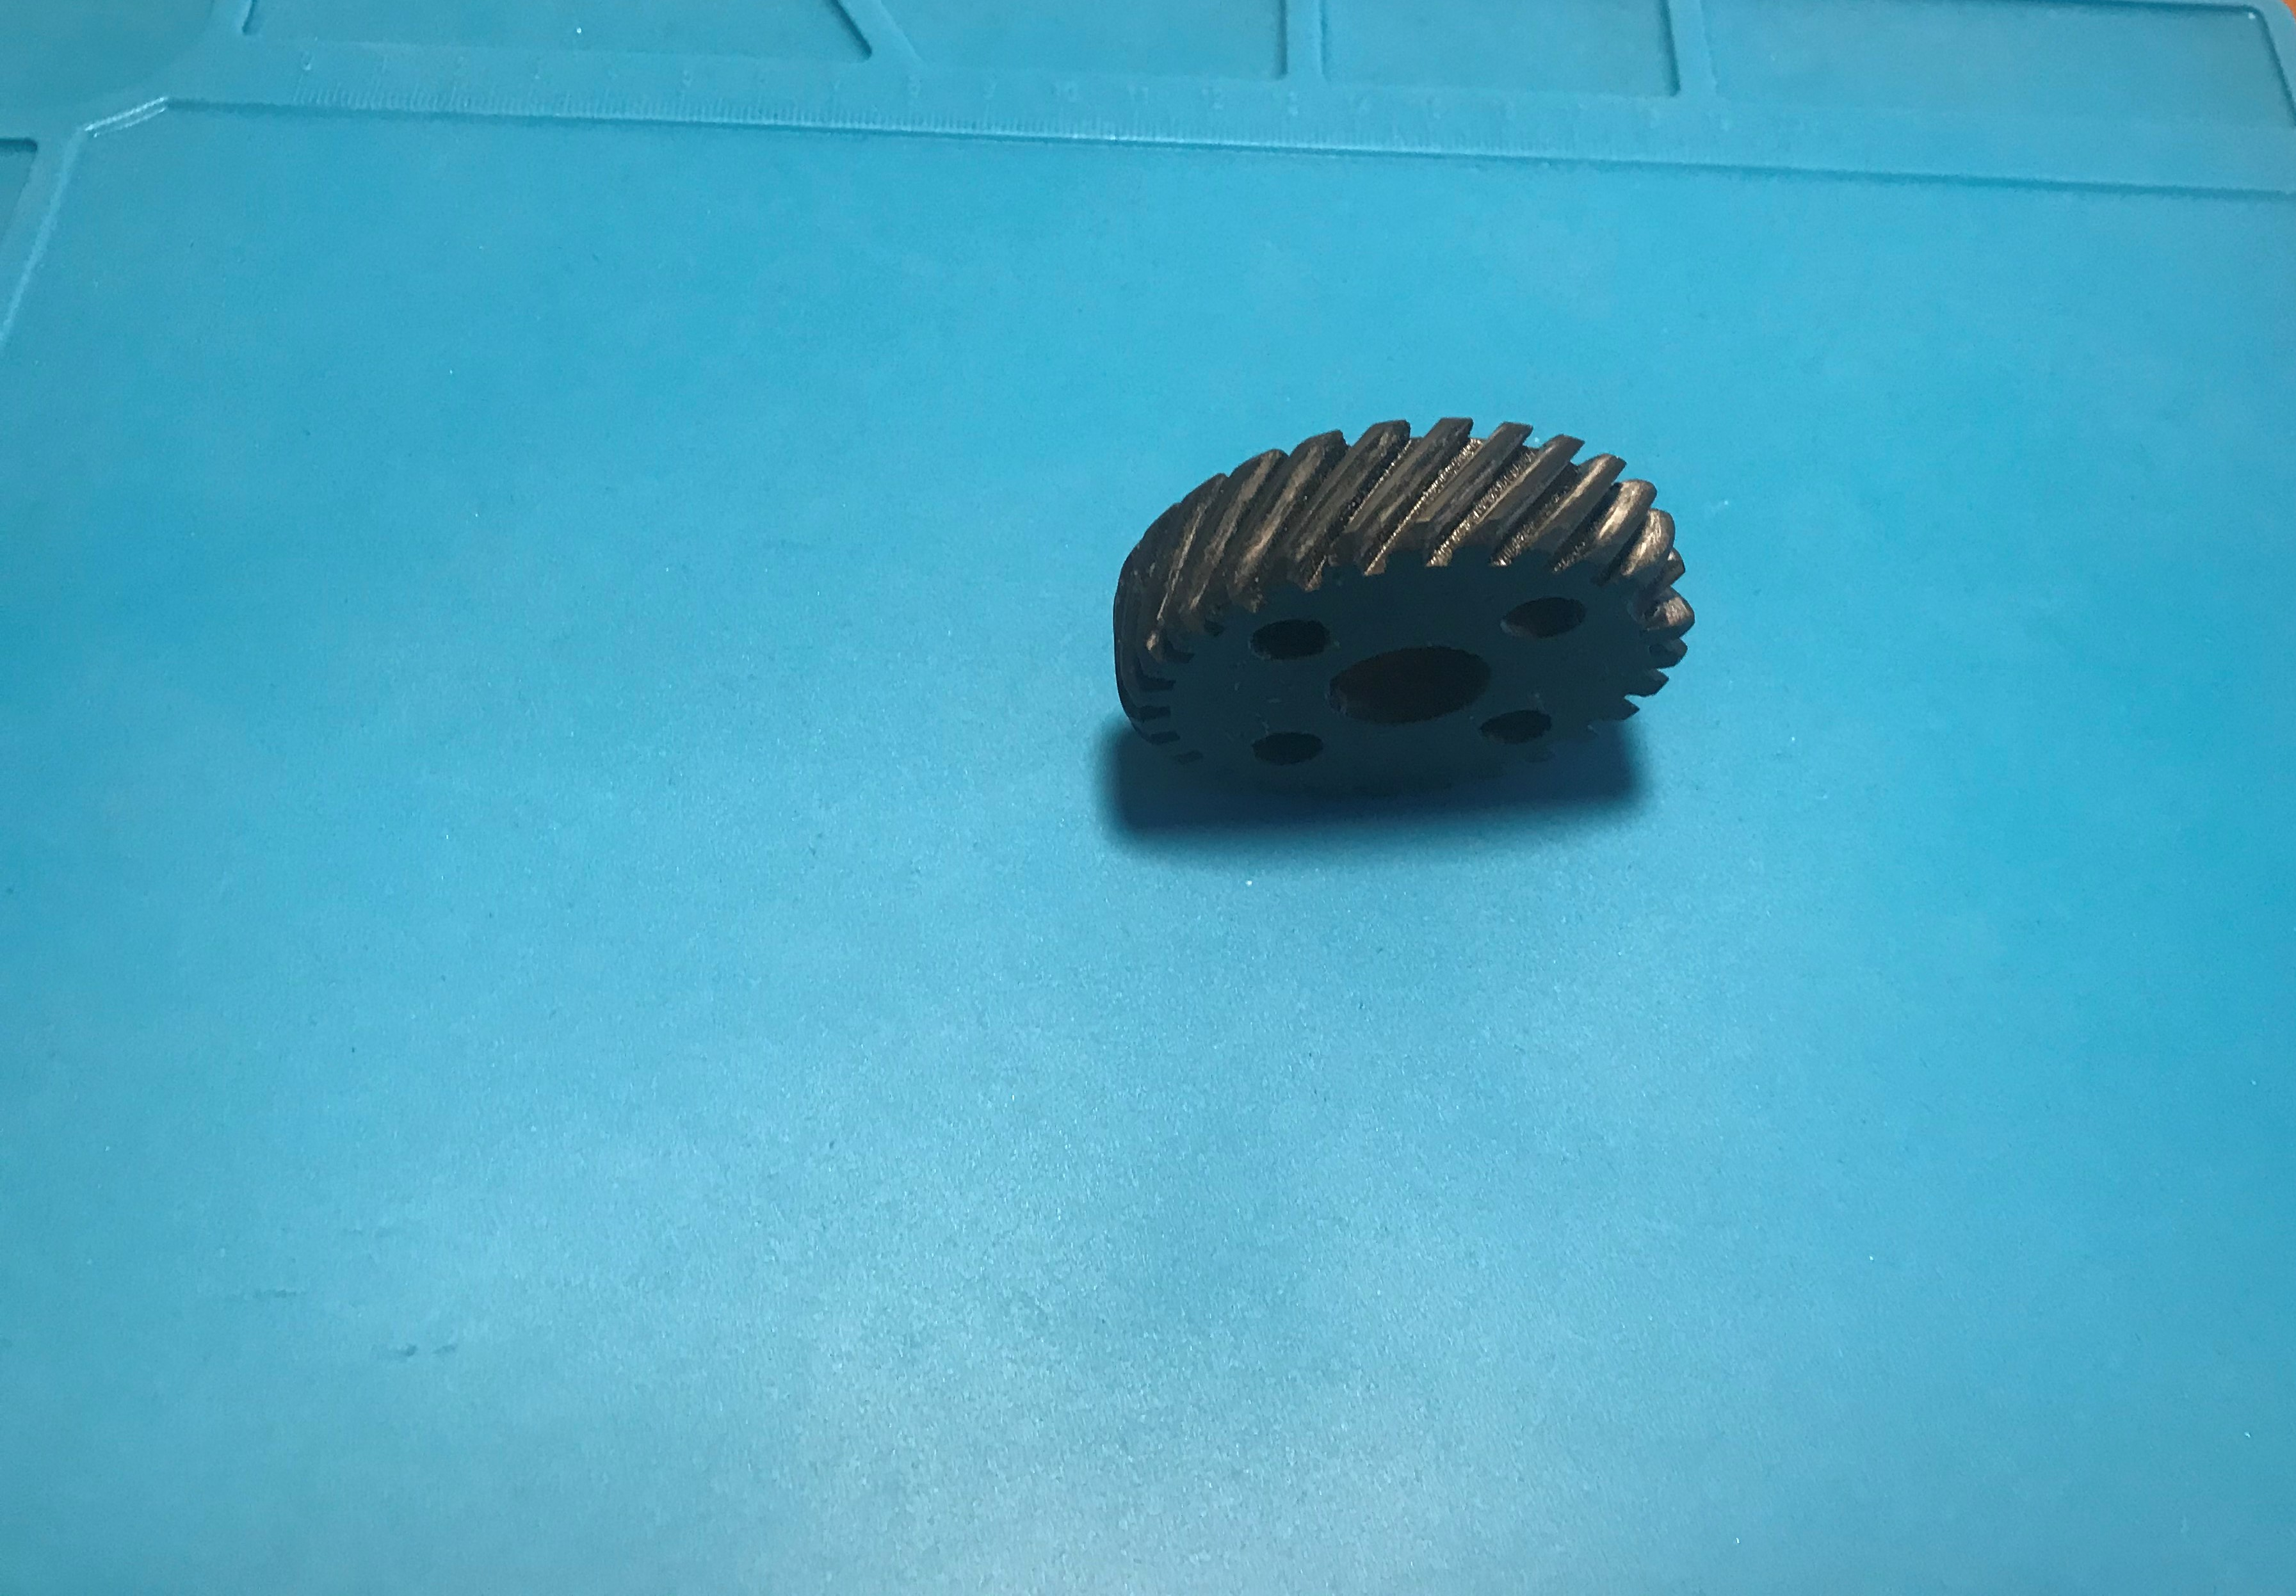gear: (1078, 413, 1699, 808)
